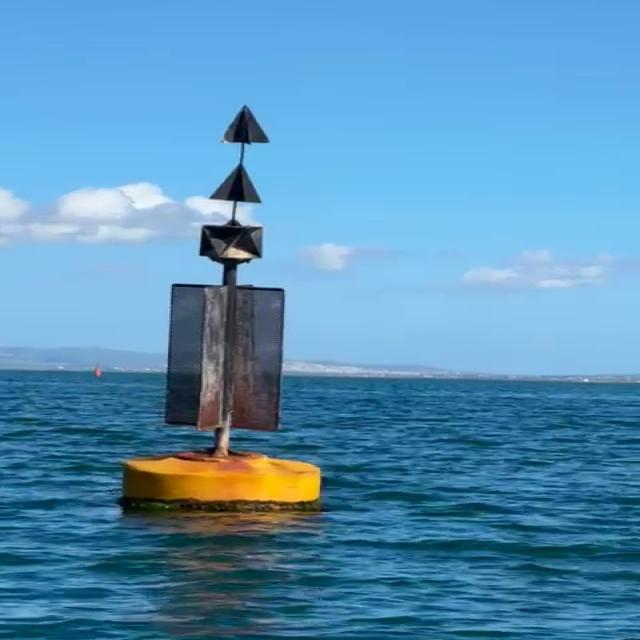marque: (116, 107, 317, 520)
